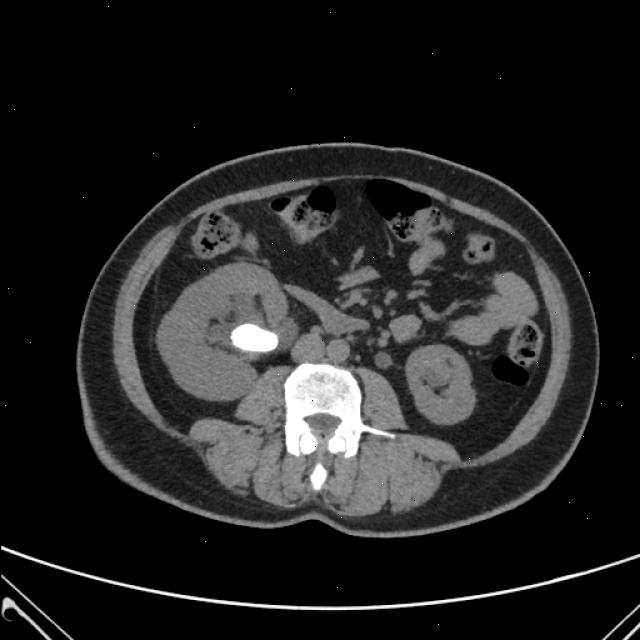kidneystone: (232, 324, 279, 352)
